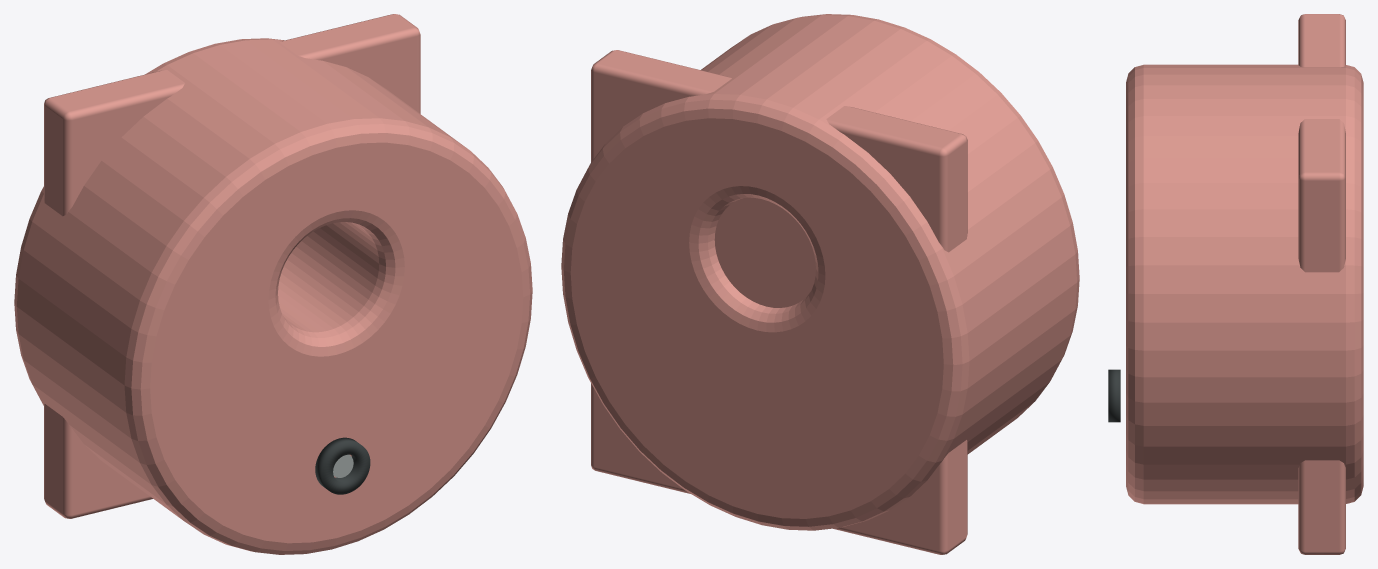
File: indoor-climbing-and-bouldering-gym-indoor-climbing-and-60471ba2__31529.glb
3 renders of one model, left to right at view 1: azimuth 30°, elevation 25°; view 2: azimuth 150°, elevation 25°; view 3: azimuth 270°, elevation 25°, orthographic. The views are drawn at different scales.
Parts seen in each view (by area): view 1: indoor-climbing-and-bouldering-gym-recessed-pocket-hold; view 2: indoor-climbing-and-bouldering-gym-recessed-pocket-hold; view 3: indoor-climbing-and-bouldering-gym-recessed-pocket-hold.
Part boxes in pixels (x1,y1,x2,y2): indoor-climbing-and-bouldering-gym-recessed-pocket-hold: [14, 14, 532, 554]; indoor-climbing-and-bouldering-gym-recessed-pocket-hold: [561, 14, 1079, 554]; indoor-climbing-and-bouldering-gym-recessed-pocket-hold: [1108, 14, 1363, 554].
Bounding box in the file's own units: 0.25 × 0.25 × 0.145.
